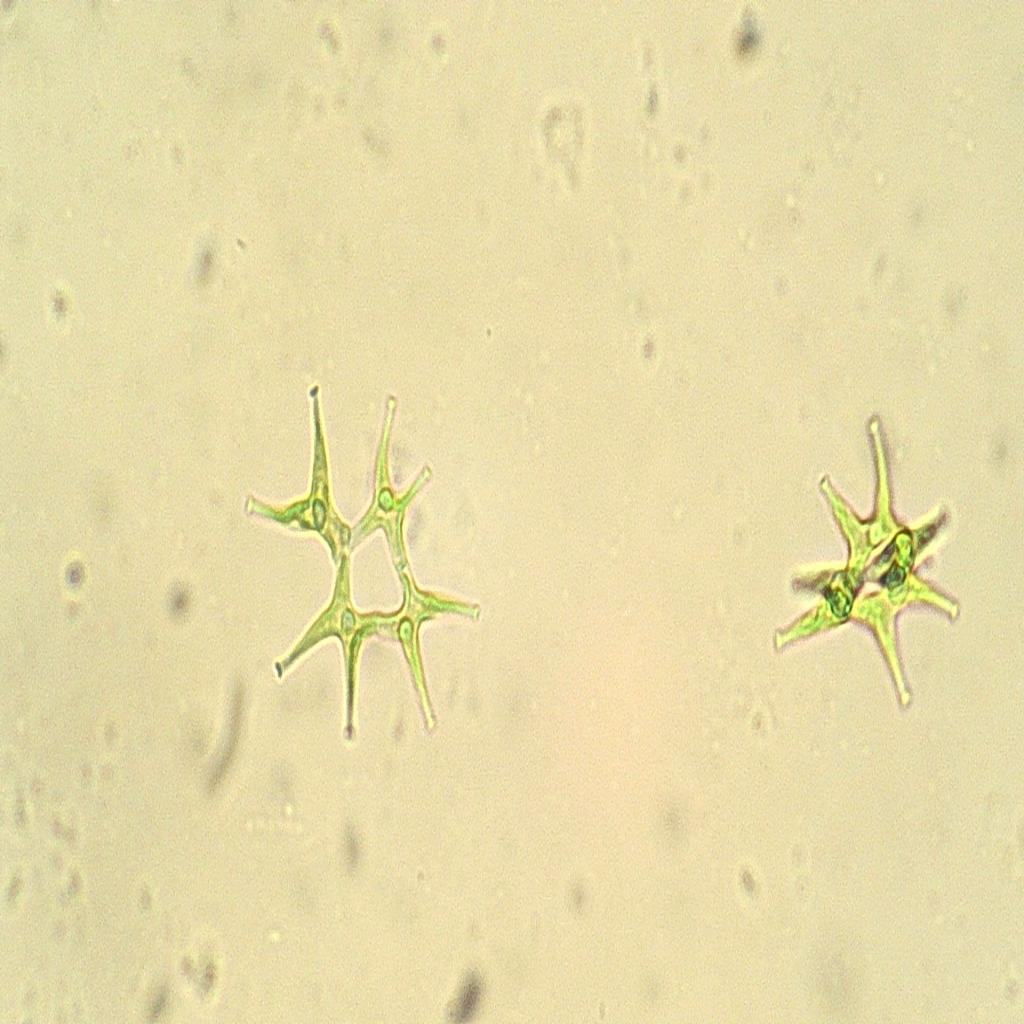Pediastrum_75FI: (239, 364, 490, 780)
